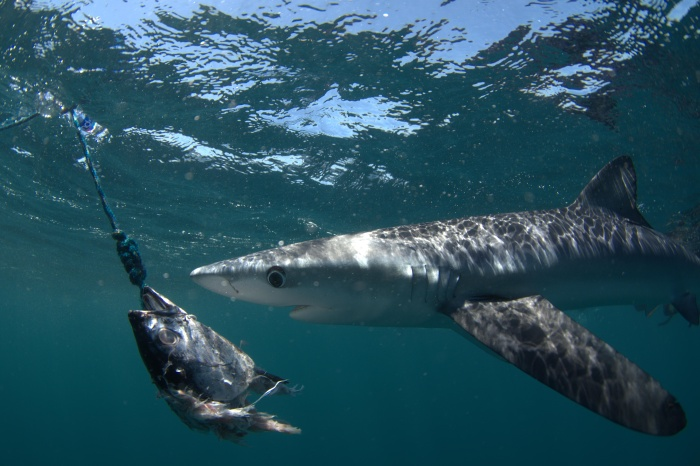Azul: (149, 153, 700, 435)
